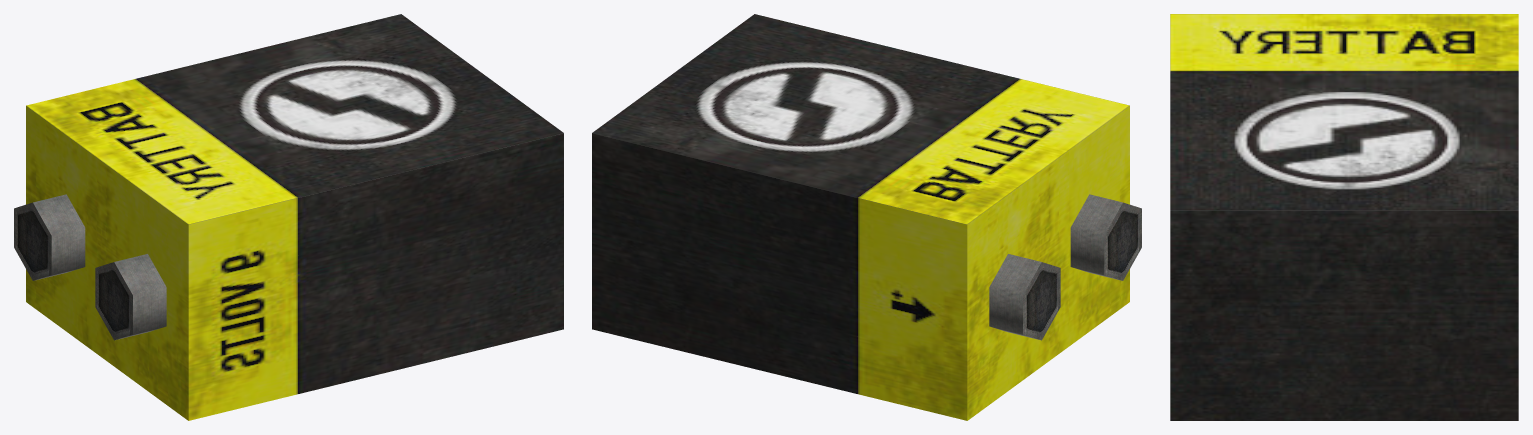
Rendered from battery.gltf.
3 renders of one model, left to right at view 1: azimuth 30°, elevation 25°; view 2: azimuth 150°, elevation 25°; view 3: azimuth 270°, elevation 25°, orthographic. The views are drawn at different scales.
Parts seen in each view (by area): view 1: Scene_Root; view 2: Scene_Root; view 3: Scene_Root.
Part boxes in pixels (x1,y1,x2,y2): Scene_Root: [14, 14, 563, 420]; Scene_Root: [592, 14, 1141, 420]; Scene_Root: [1170, 14, 1518, 420].
Bounding box in the file's own units: 0.0872 × 0.04 × 0.06.
Materials: 1 (1 with a texture image).
